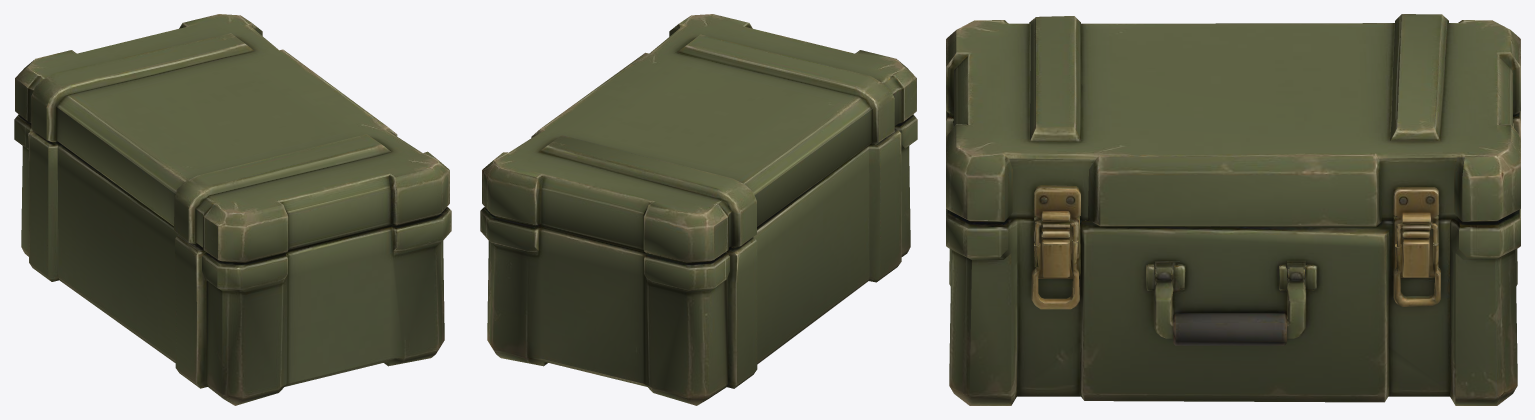
File: survival-storage.glb
3 renders of one model, left to right at view 1: azimuth 30°, elevation 25°; view 2: azimuth 150°, elevation 25°; view 3: azimuth 270°, elevation 25°, orthographic. The views are drawn at different scales.
Visible parts, largest first — view 1: tripo_node_cfb018e3-7862-4f11-938c-ae912bc9c7e9; view 2: tripo_node_cfb018e3-7862-4f11-938c-ae912bc9c7e9; view 3: tripo_node_cfb018e3-7862-4f11-938c-ae912bc9c7e9.
Boxes of the visible parts, x1,y1,x2,y2 form: tripo_node_cfb018e3-7862-4f11-938c-ae912bc9c7e9: [14, 14, 451, 405]; tripo_node_cfb018e3-7862-4f11-938c-ae912bc9c7e9: [480, 14, 917, 405]; tripo_node_cfb018e3-7862-4f11-938c-ae912bc9c7e9: [946, 14, 1520, 405].
Size of the model in its own units: 0.6621 by 0.5059 by 0.998.
Materials: 1 (1 with a texture image).
